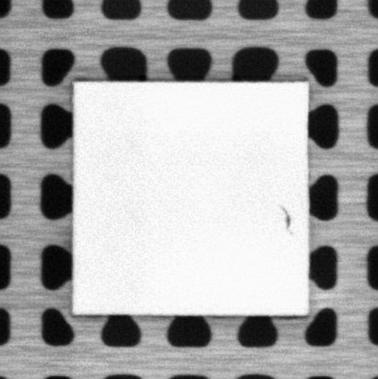DIE_INK: (280, 204, 290, 230)
